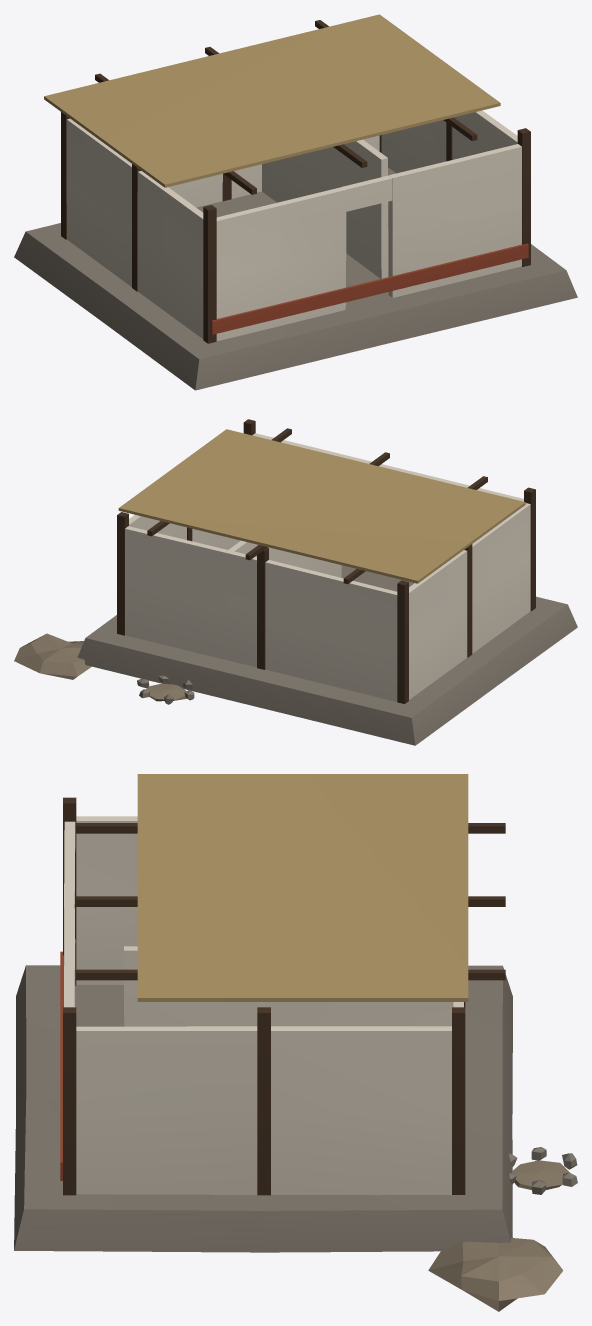
Rendered from caral_house_elite_lod0.glb.
3 renders of one model, top to bottom at view 1: azimuth 30°, elevation 25°; view 2: azimuth 150°, elevation 25°; view 3: azimuth 270°, elevation 25°, orthographic. The views are drawn at different scales.
Visible parts, largest first — view 1: GEO-Arch_house_elite_LOD0; view 2: GEO-Arch_house_elite_LOD0; view 3: GEO-Arch_house_elite_LOD0.
Boxes of the visible parts, box(x1,y1,x2,y2) form: GEO-Arch_house_elite_LOD0: box(14, 14, 577, 390); GEO-Arch_house_elite_LOD0: box(14, 419, 577, 745); GEO-Arch_house_elite_LOD0: box(14, 774, 577, 1311).
Size of the model in its own units: 10.59 by 4.12 by 8.41.
